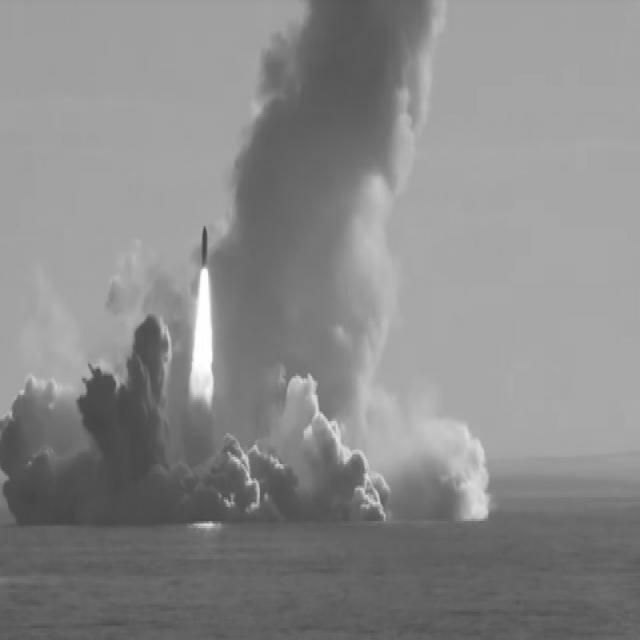missile: (195, 220, 211, 273)
